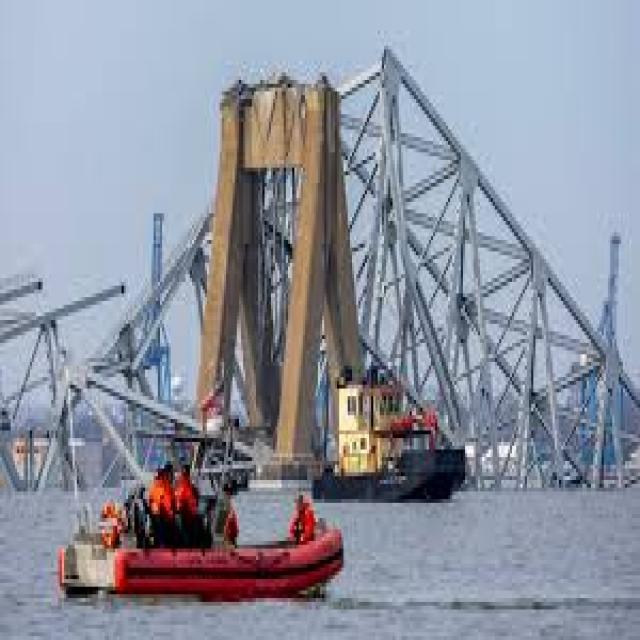bridge collapse: (18, 9, 476, 639)
